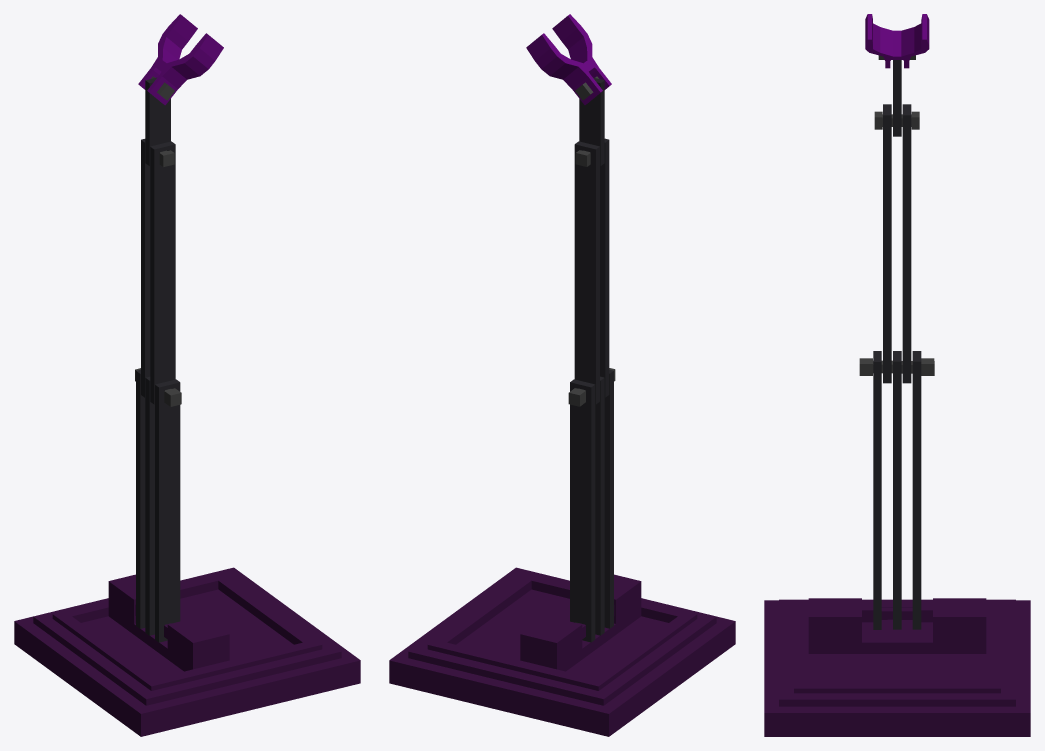
The model's file is RoboticGrabberArm.fbx.
3 views of the same model, side by side, from view 1: azimuth 30°, elevation 25°; view 2: azimuth 150°, elevation 25°; view 3: azimuth 270°, elevation 25° (orthographic). The views are drawn at different scales.
Parts seen in each view (by area): view 1: Base, Bolts1, ArmSegment2, Claw, ArmSegment3; view 2: Base, Bolts1, ArmSegment2, Claw, ArmSegment3; view 3: Base, Bolts1, ArmSegment2, Claw, ArmSegment3.
Boxes of the visible parts, box(x1,y1,x2,y2) form: Base: box(14, 567, 360, 736); Bolts1: box(135, 368, 181, 642); ArmSegment2: box(141, 139, 175, 404); Claw: box(138, 14, 223, 105); ArmSegment3: box(145, 76, 174, 166); Base: box(389, 567, 735, 736); Bolts1: box(568, 368, 615, 642); ArmSegment2: box(574, 138, 609, 404); Claw: box(526, 14, 611, 104); ArmSegment3: box(575, 76, 604, 165); Base: box(764, 598, 1030, 736); Bolts1: box(859, 351, 934, 629); ArmSegment2: box(874, 104, 919, 383); Claw: box(865, 14, 929, 68); ArmSegment3: box(878, 55, 915, 136).
Size of the model in its own units: 60 by 60 by 166.
